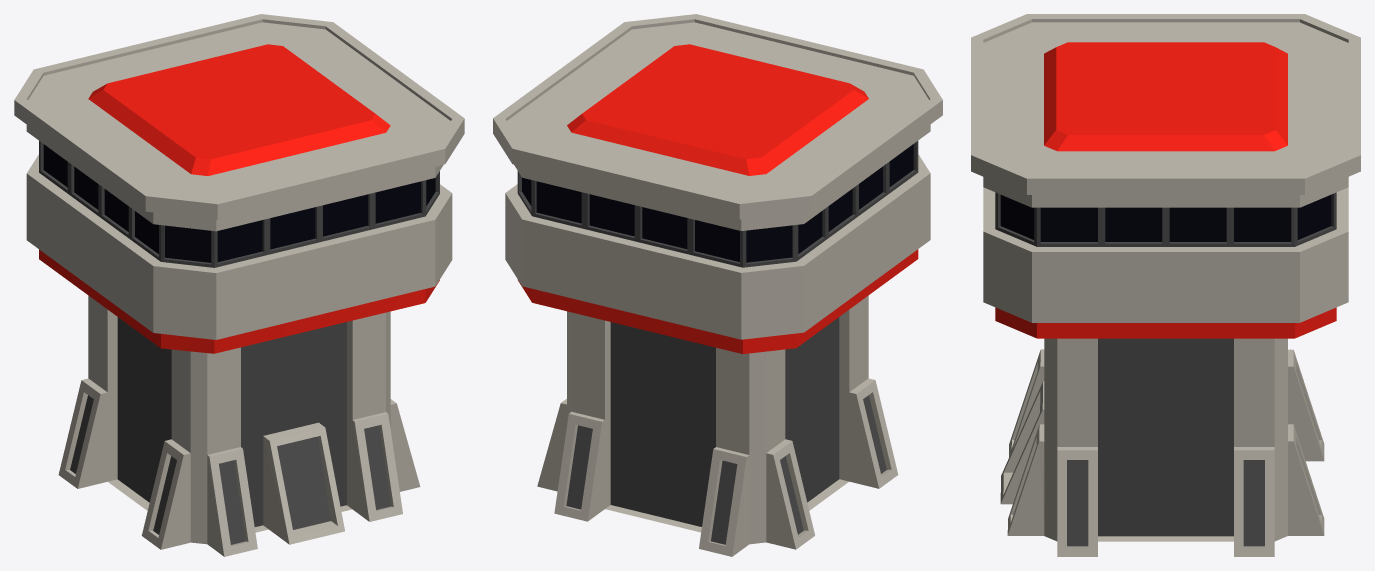
File: 02 Compressor room.FBX.glb
3 views of the same model, side by side, from view 1: azimuth 30°, elevation 25°; view 2: azimuth 150°, elevation 25°; view 3: azimuth 270°, elevation 25° (orthographic). The views are drawn at different scales.
Visible parts, largest first — view 1: Box002.2; view 2: Box002.2; view 3: Box002.2.
Boxes of the visible parts, x1,y1,x2,y2 form: Box002.2: (14, 14, 464, 556); Box002.2: (493, 14, 942, 556); Box002.2: (971, 14, 1360, 556).
Size of the model in its own units: 3200 by 3635 by 3200.
